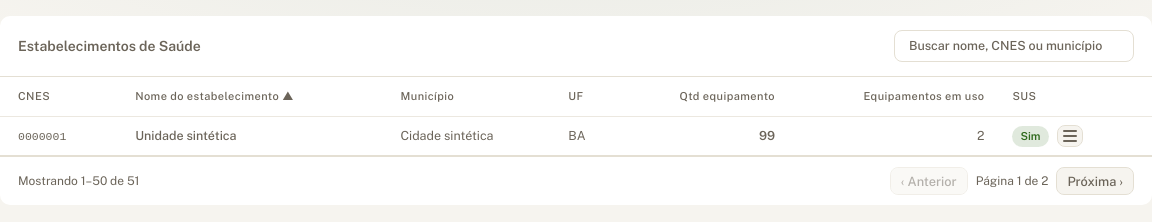
Test: estabelecimentos com transporte, hook e schema reais › mantém todos os filtros e reinicia a paginação na busca com debounce
Click the button with aria-label "Próxima página" at (1095, 181), box left=1056, top=167, right=1134, bottom=195
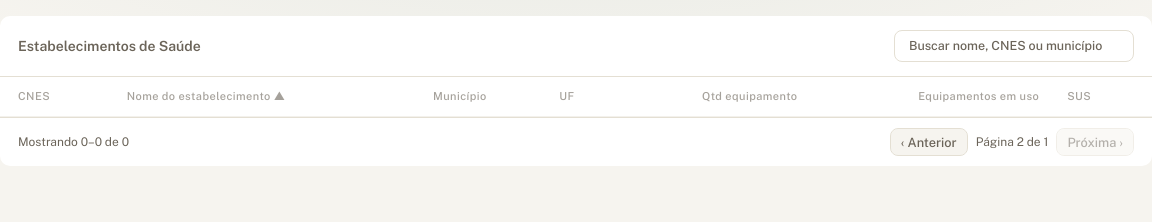
Type "Un" into the field with placeholder "Buscar nome, CNES ou município" at (1014, 46), box left=894, top=30, right=1134, bottom=62
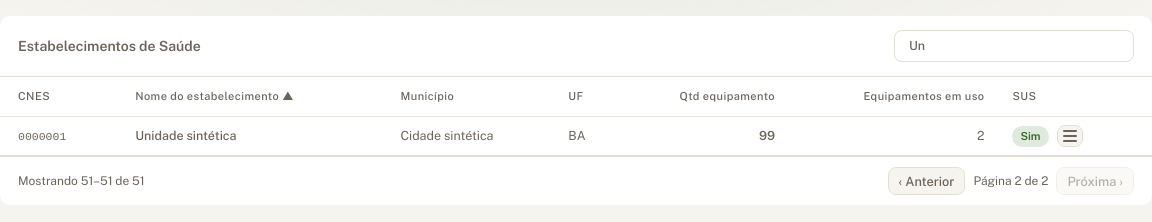
Replace the text in the field with placeholder "Buscar nome, CNES ou município" with "Unidade" at (1014, 46), box left=894, top=30, right=1134, bottom=62
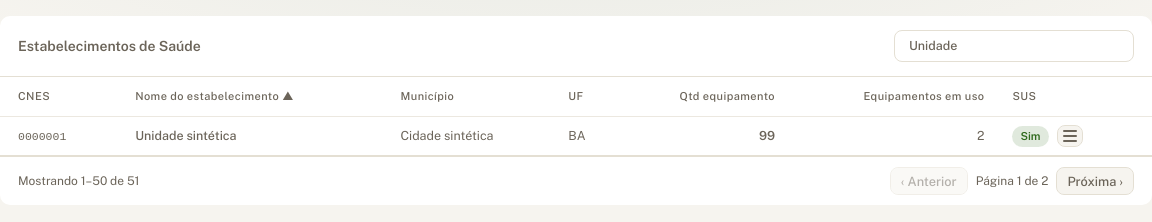
Check: the text "Página 1 de 2" is shown, box left=976, top=173, right=1048, bottom=189
